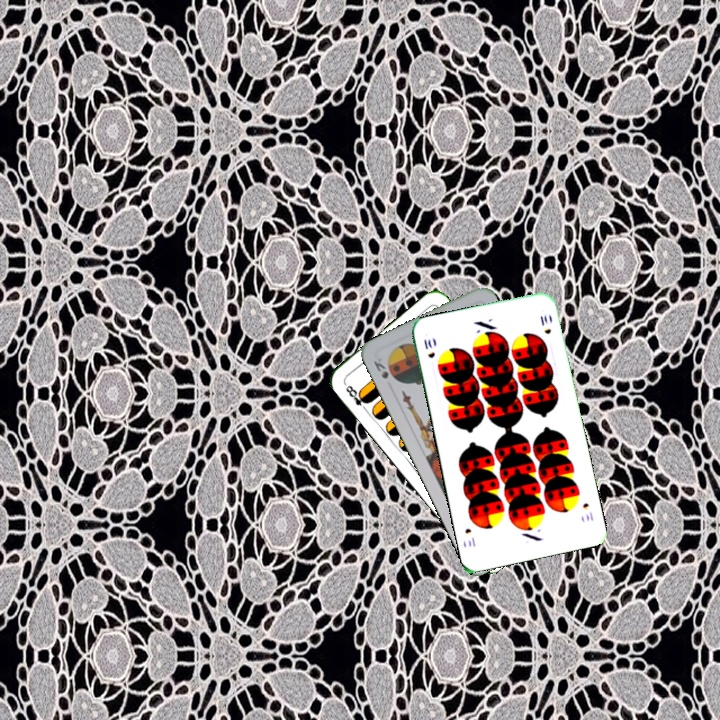E8: (341, 379, 372, 414)
S10: (420, 335, 437, 361), (579, 499, 596, 524)
SK: (369, 354, 391, 382)
